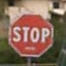stop: (8, 12, 54, 57)
